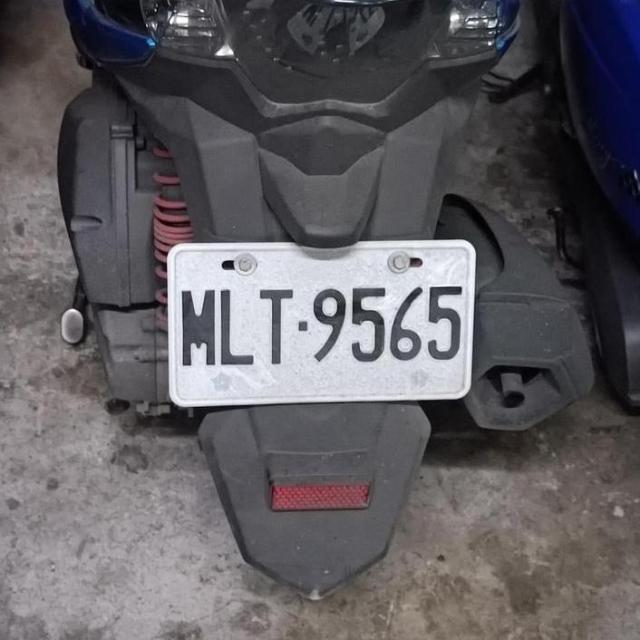W: (158, 232, 480, 405)
